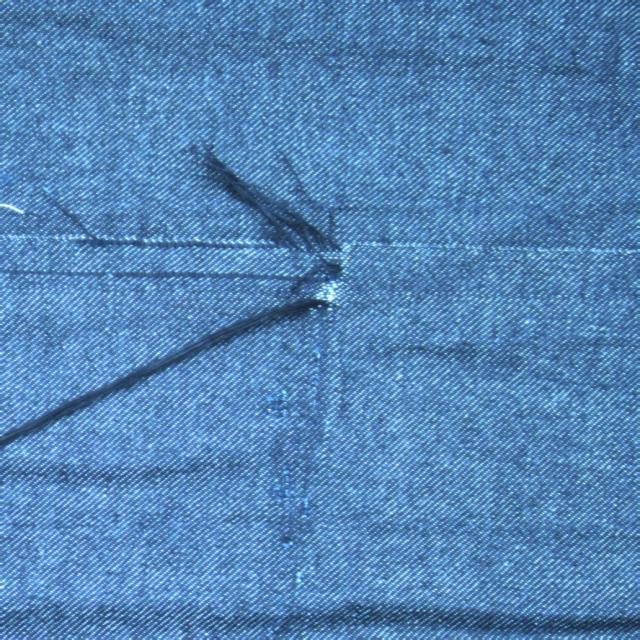defect: (0, 150, 348, 455), (27, 189, 126, 247)
